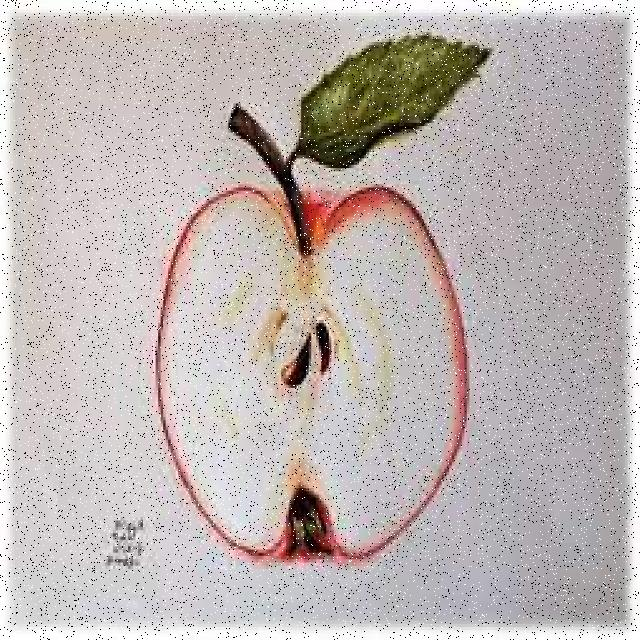Apple: (156, 176, 471, 564)
